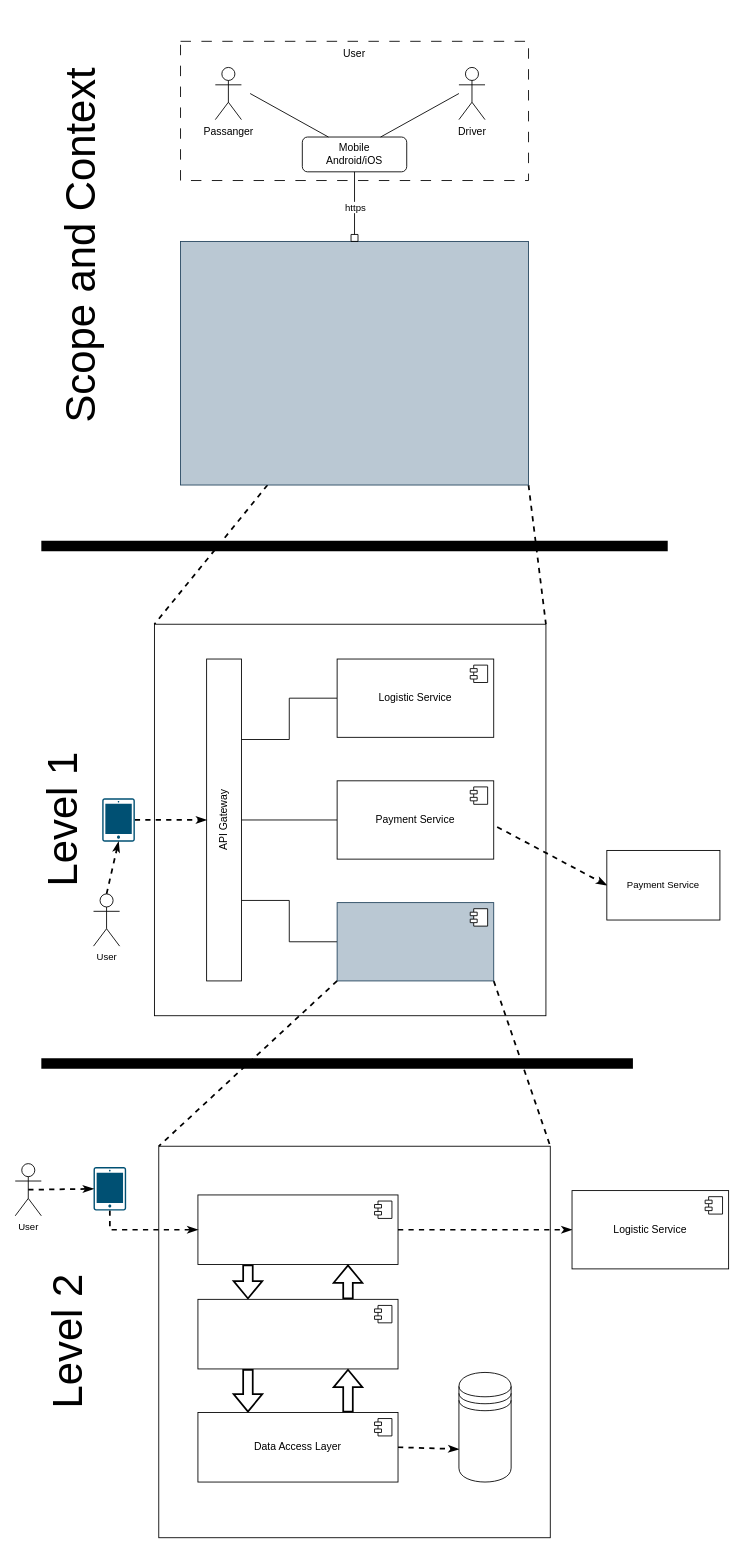
This 744x1553 diagram has some shape labels left out. Each missing label, with the box of its shape:
API Layer: (197, 1194, 398, 1265)
Business Logic Layer: (197, 1298, 398, 1369)
MOTUS (as a cloudservice): (180, 241, 529, 485)
Rider Backend: (336, 902, 494, 981)
